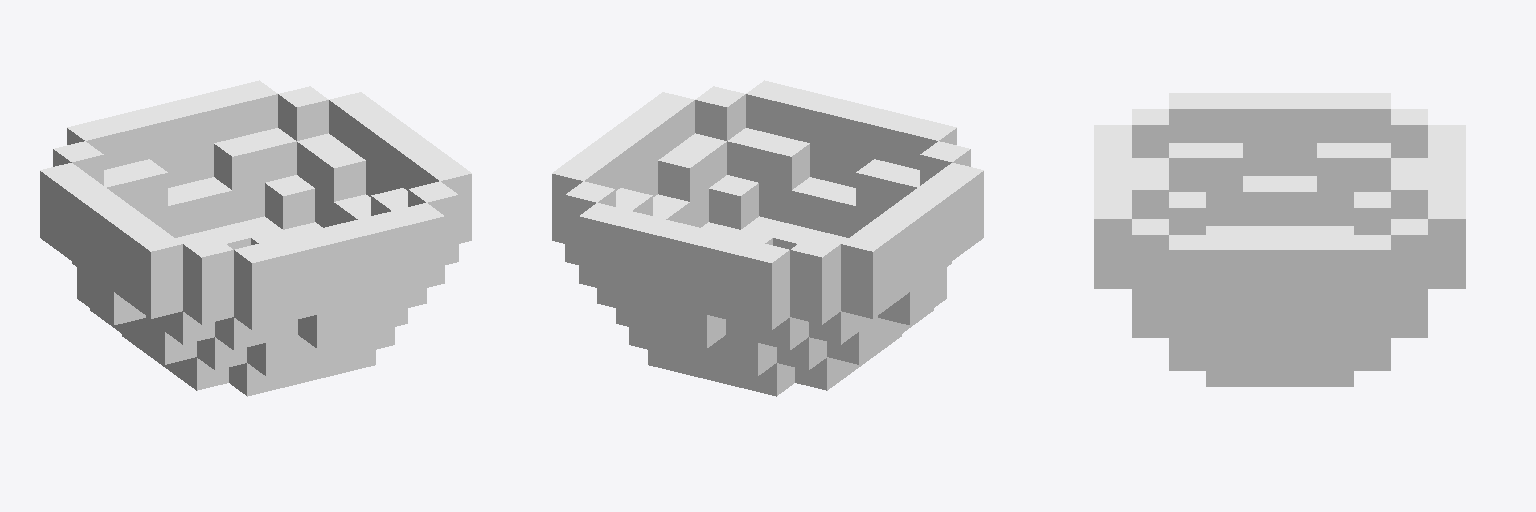
The model's file is glue_bowl2.obj.
3 views of the same model, side by side, from view 1: azimuth 30°, elevation 25°; view 2: azimuth 150°, elevation 25°; view 3: azimuth 270°, elevation 25° (orthographic).
Visible parts, largest first — view 1: object 1; view 2: object 1; view 3: object 1.
Boxes of the visible parts, <box> form: object 1: <box>40,80,471,396</box>; object 1: <box>552,80,983,396</box>; object 1: <box>1094,93,1465,386</box>.
Bounding box in the file's own units: 1 × 0.5 × 1.